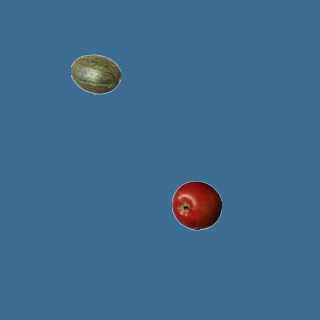Apple Braeburn: (171, 180, 221, 230)
Melon Piel de Sapo: (70, 49, 120, 99)
